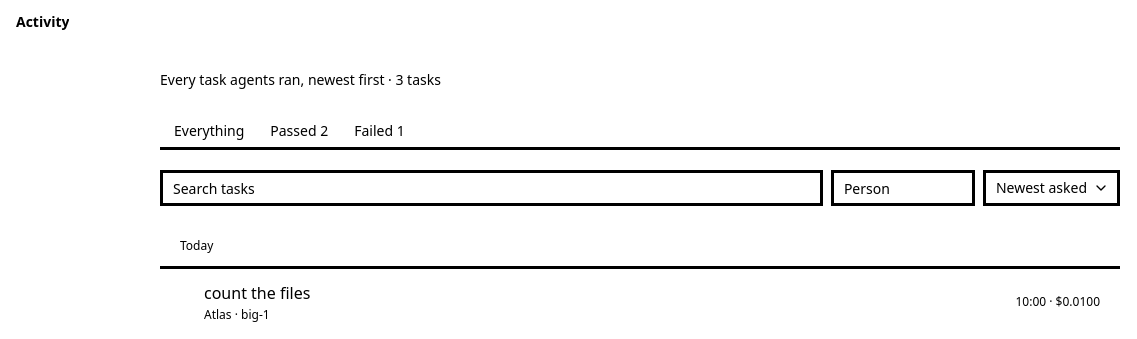
Test case: Activity › searches by the address the form makes
Step 1. Type "adder" into the search field with placeholder "Search tasks" → (491, 188), box [160, 170, 823, 206]
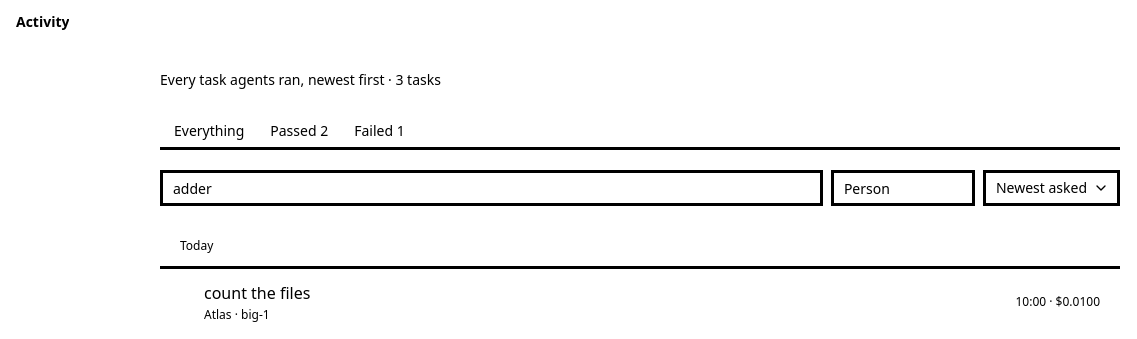
Step 2. Submit the form with placeholder "Search tasks", box [160, 170, 1120, 206]
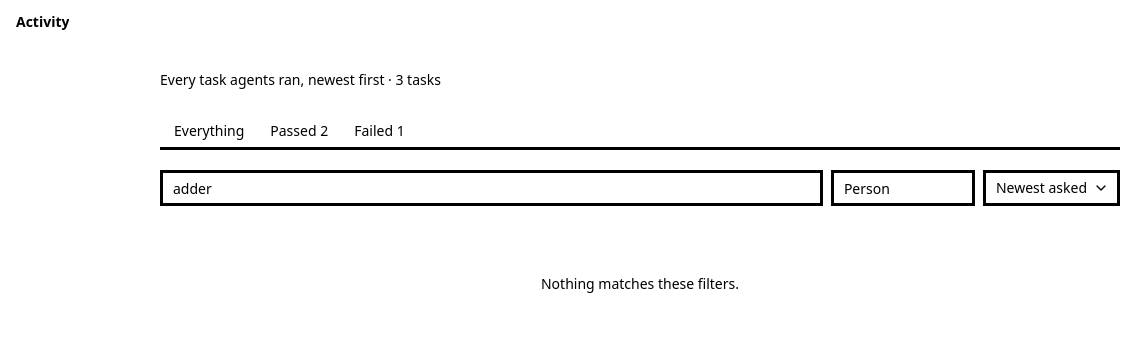
expect the text "Nothing matches these filters." is shown: met, box [541, 274, 739, 293]
